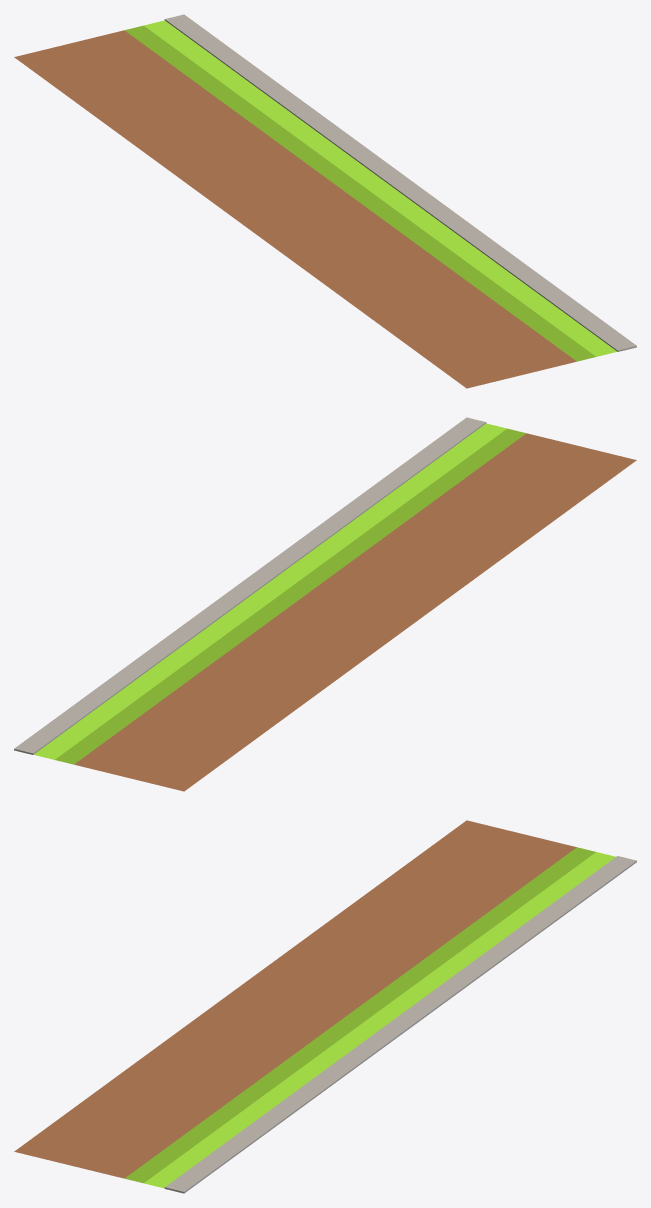
The model's file is Road Sidewalk.fbx.
3 renders of one model, top to bottom at view 1: azimuth 30°, elevation 25°; view 2: azimuth 150°, elevation 25°; view 3: azimuth 330°, elevation 25°, orthographic.
Visible parts, largest first — view 1: Road_Side; view 2: Road_Side; view 3: Road_Side.
Boxes of the visible parts, bbox=[...] form: Road_Side: bbox=[14, 14, 636, 388]; Road_Side: bbox=[14, 417, 636, 791]; Road_Side: bbox=[14, 820, 636, 1193].
Bounding box in the file's own units: 109 × 1 × 500.
Materials: 1 (1 with a texture image).
